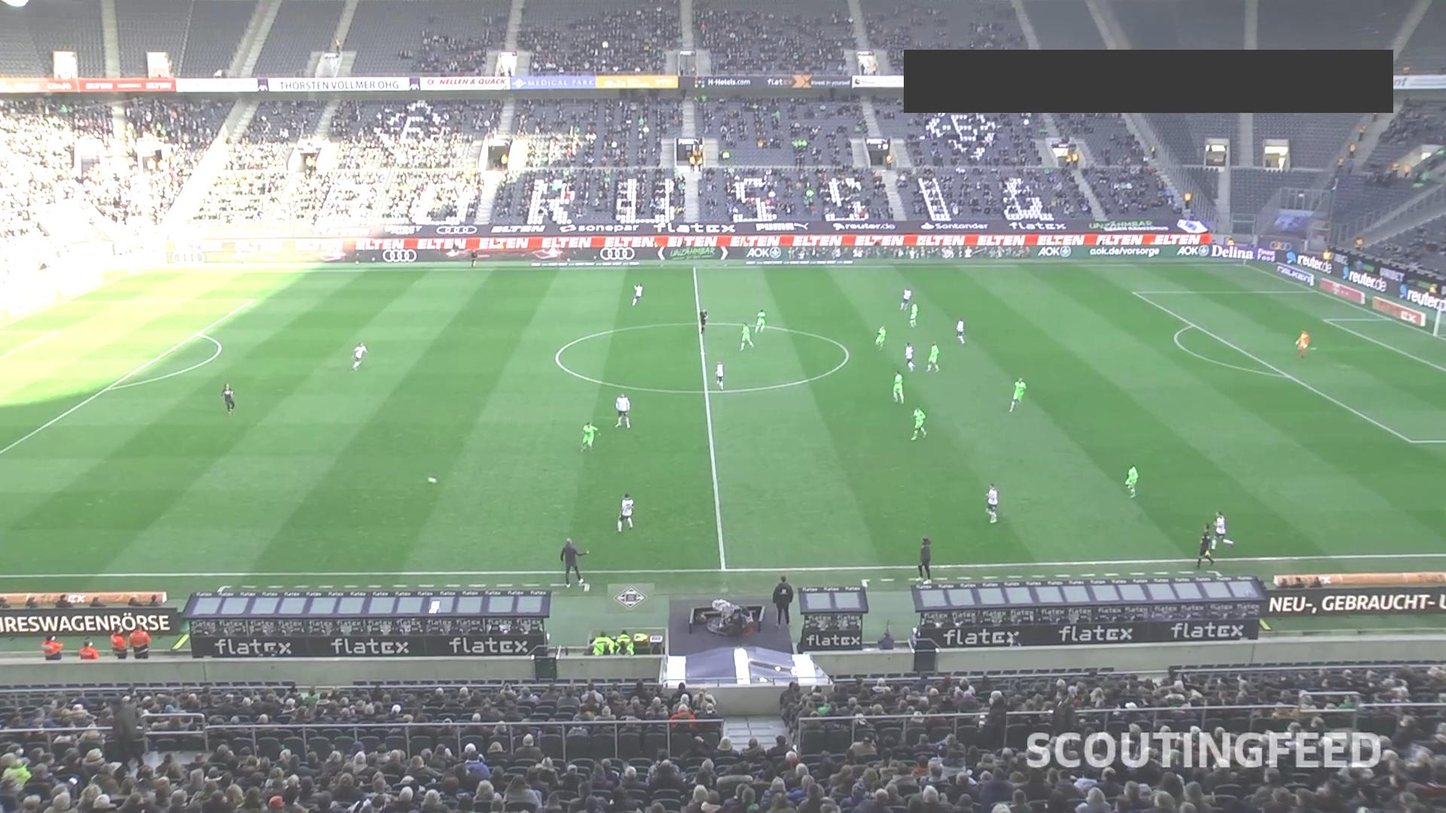ball: (428, 475, 439, 485)
goalkeeper: (1296, 330, 1313, 363), (221, 383, 237, 416)
player: (1212, 511, 1236, 553), (617, 492, 636, 534), (910, 405, 929, 443), (581, 421, 601, 454), (1009, 377, 1027, 413), (615, 393, 632, 430), (984, 482, 998, 523), (1124, 462, 1139, 499), (925, 341, 941, 374), (738, 322, 755, 352), (352, 341, 368, 371), (892, 370, 905, 405), (754, 308, 768, 336), (904, 342, 916, 373), (714, 360, 725, 392), (874, 326, 887, 351), (955, 317, 966, 346), (633, 282, 645, 308), (908, 301, 919, 329), (900, 288, 912, 312)
refree: (1196, 522, 1215, 571), (699, 307, 708, 335), (471, 250, 480, 269)
